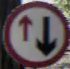Two way: (1, 6, 62, 56)
